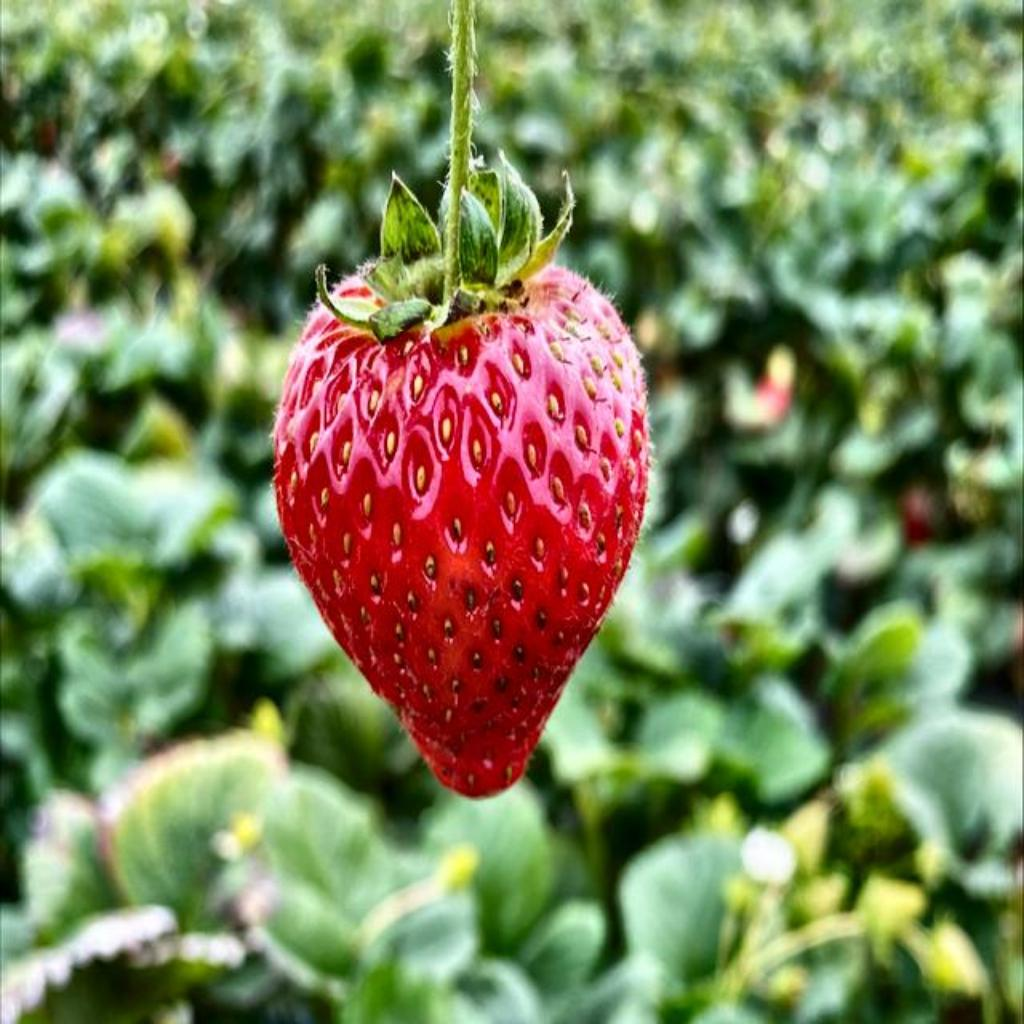strawberry: (274, 0, 648, 796)
